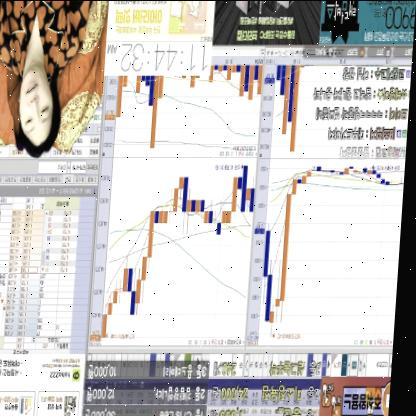streamer: (0, 0, 93, 157)
